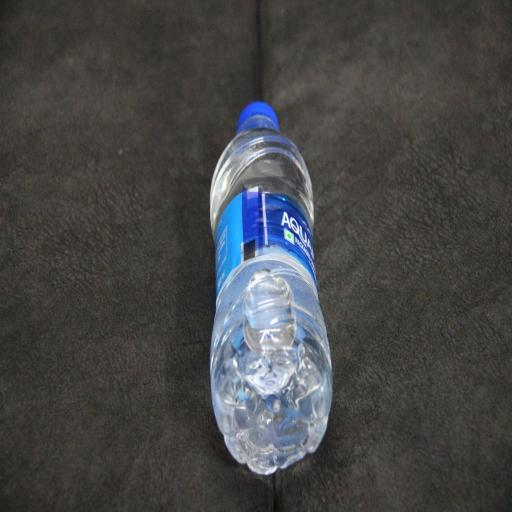Aquafina: (210, 102, 332, 475)
